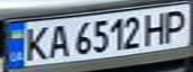1: (109, 16, 127, 52)
2: (121, 14, 145, 50)
5: (90, 17, 112, 54)
6: (69, 19, 93, 56)
A: (45, 21, 72, 60)
H: (139, 10, 172, 46)
K: (18, 24, 51, 62)
P: (157, 7, 193, 43)
